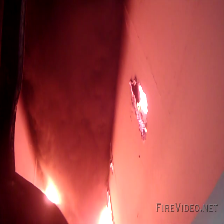fire_h: (44, 178, 61, 204), (98, 196, 112, 224)
fire_l: (139, 85, 148, 114)
